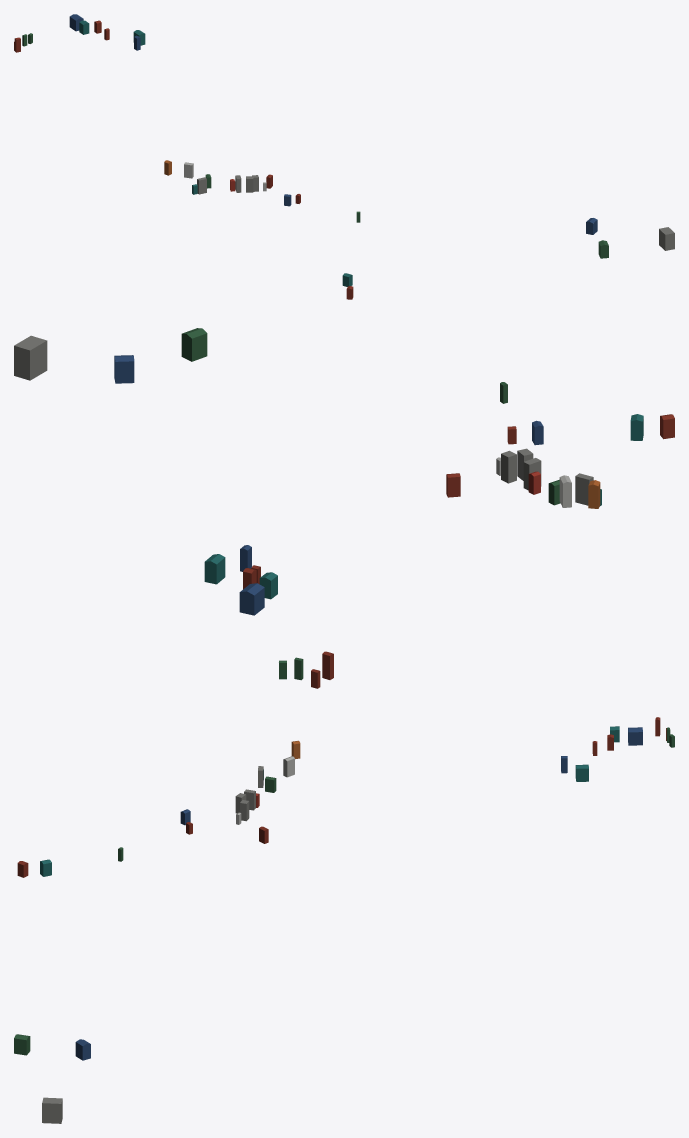
The model's file is near-15-27358-14874.02fef398.glb.
3 renders of one model, top to bottom at view 1: azimuth 30°, elevation 25°; view 2: azimuth 150°, elevation 25°; view 3: azimuth 270°, elevation 25°, orthographic. The views are drawn at different scales.
Size of the model in its own units: 712 by 240 by 801.
